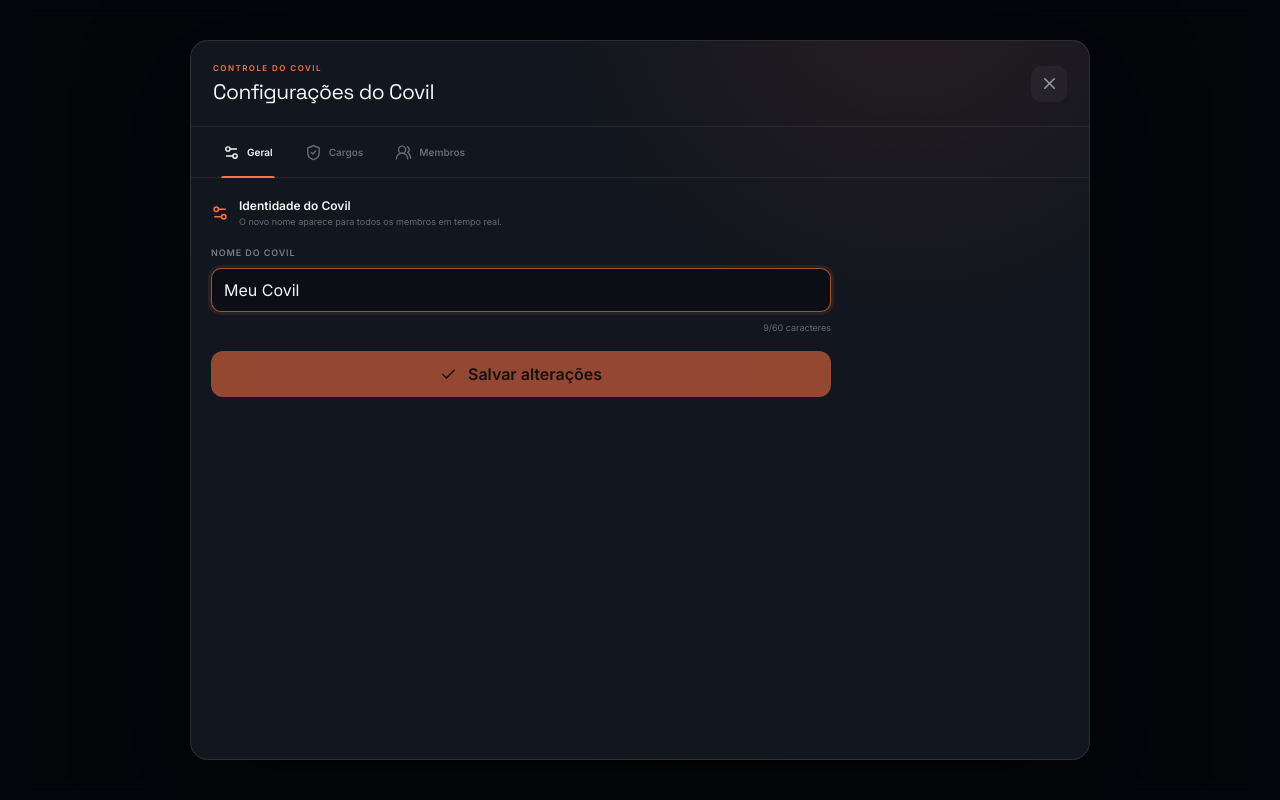
it: CovilSettingsDialog › permite alterar o nome do Covil pela aba geral
Replace the text in the field labelled "Nome do Covil" with "Covil Renovado" at (521, 290), box [211,268,831,312]
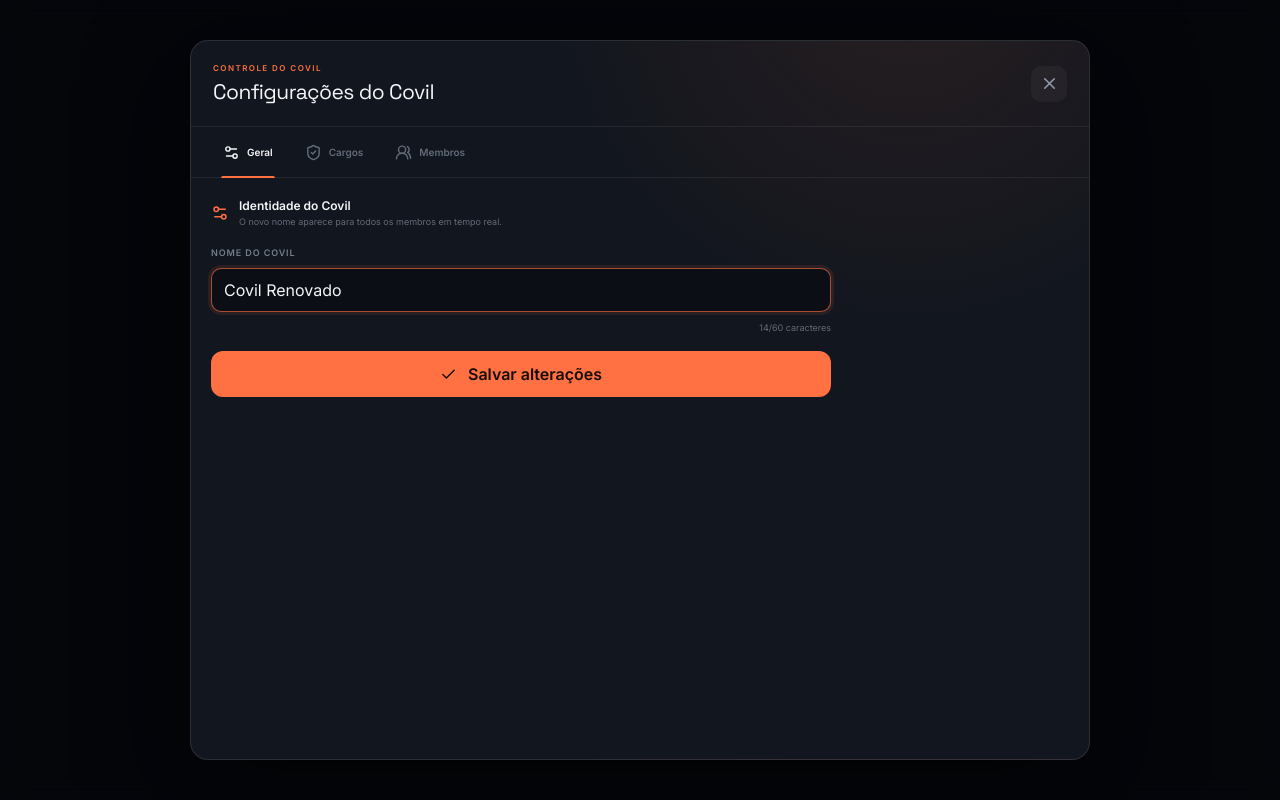
Click the button "Salvar alterações" at (521, 374), box [211,351,831,397]
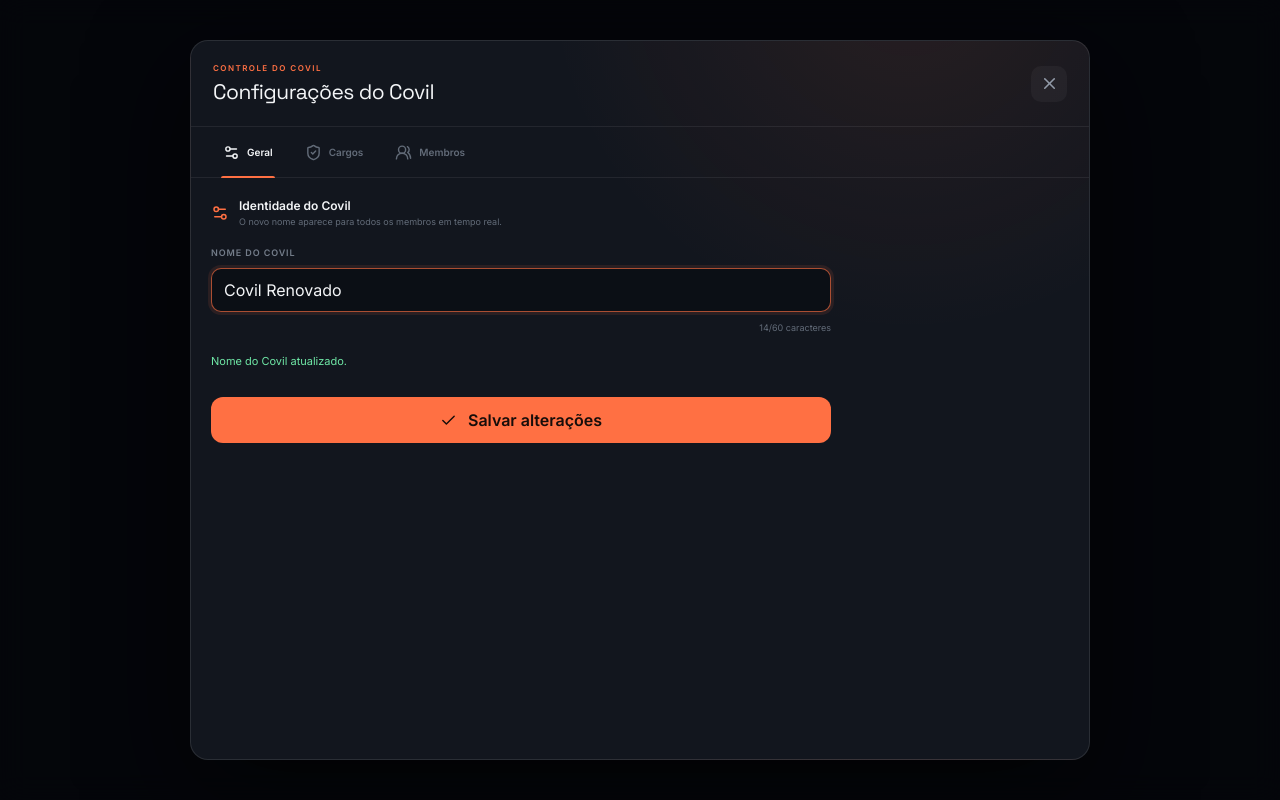
Expected: the message reads "Nome do Covil atualizado.", [211,354,347,368]
